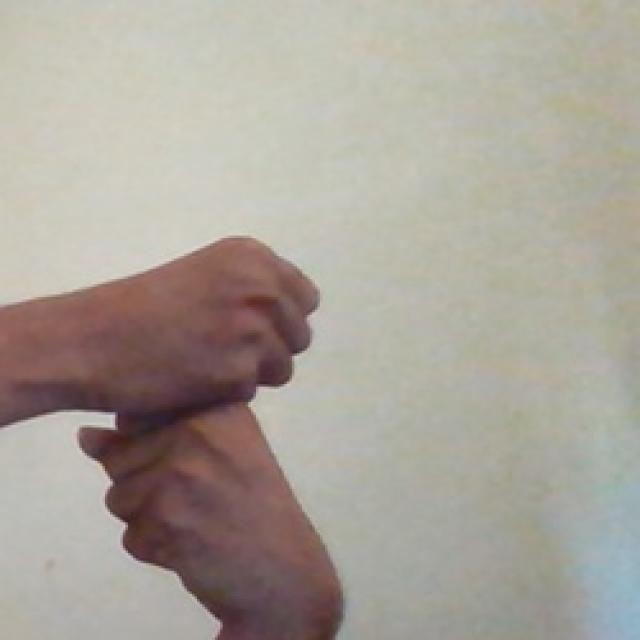Alphabet-g: (83, 219, 354, 640)
